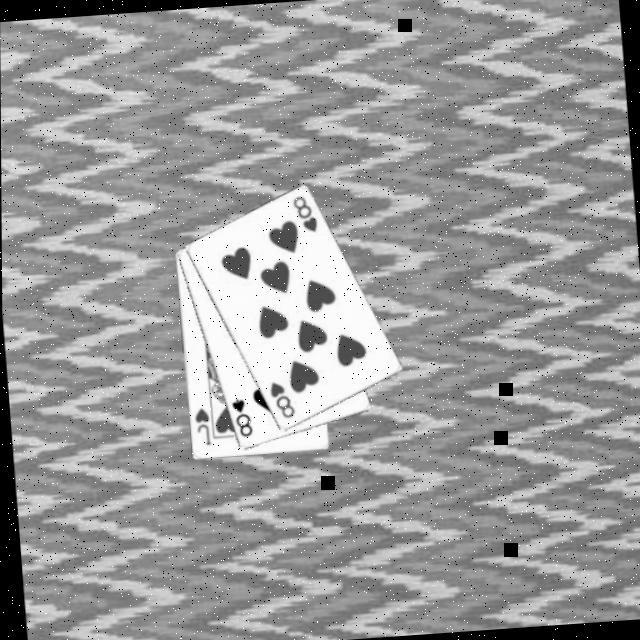8H: (264, 376, 296, 422), (286, 192, 318, 236)
8S: (225, 392, 252, 440)
JH: (188, 404, 210, 447)
